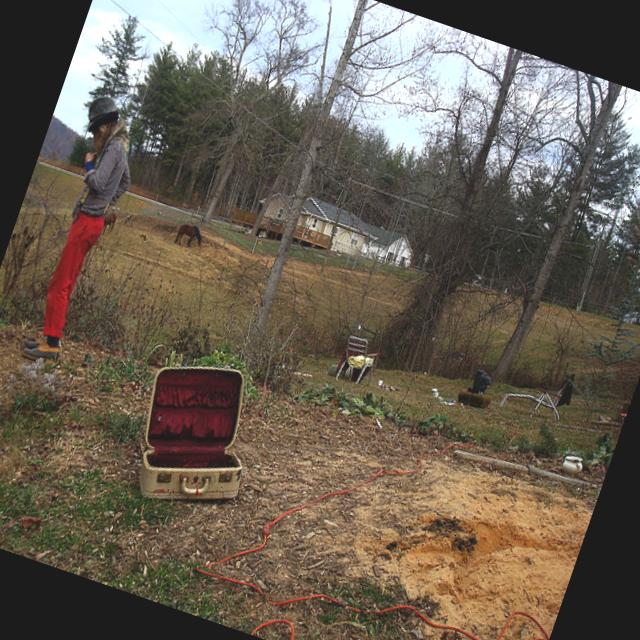Vehicle: (622, 307, 640, 329)
